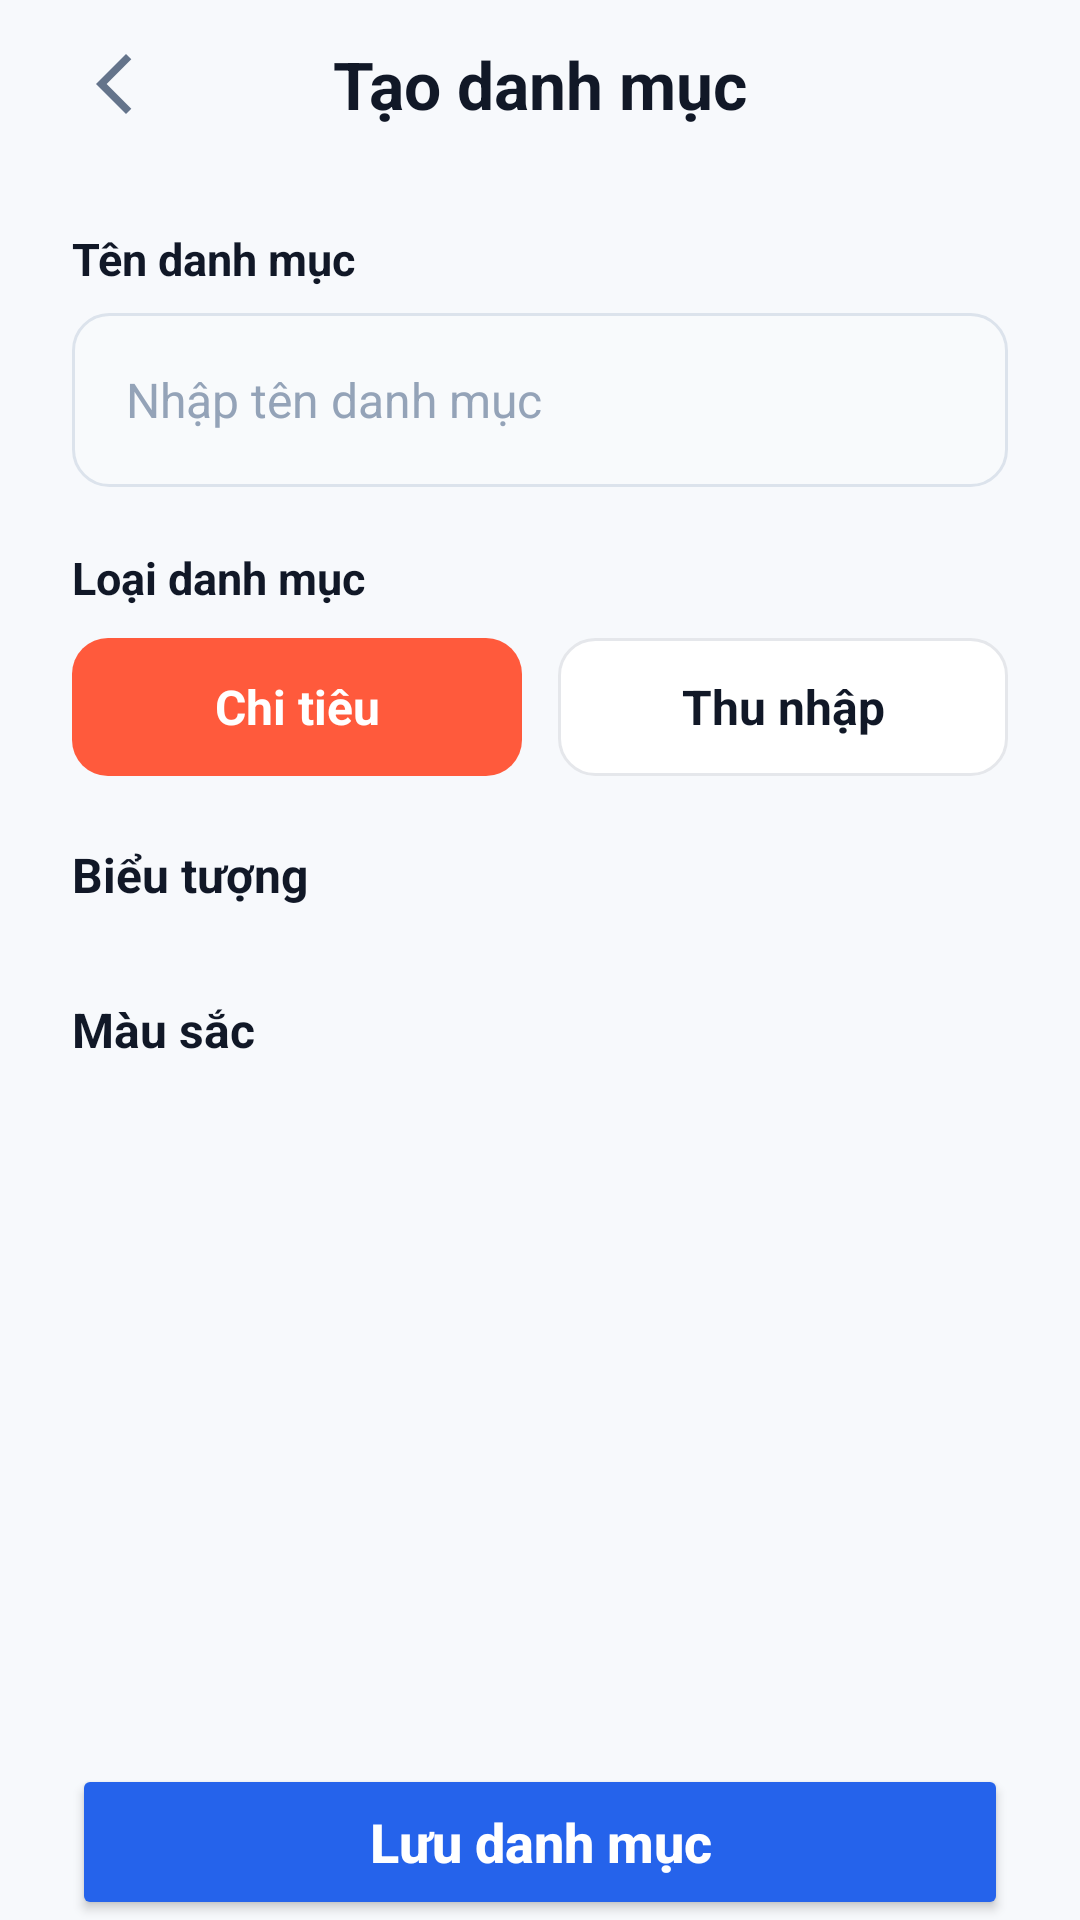

Where icons sit on this 1080x1920 app screen, as (x1, y1, x2, y2):
Quay lại: (96, 54, 131, 114)
